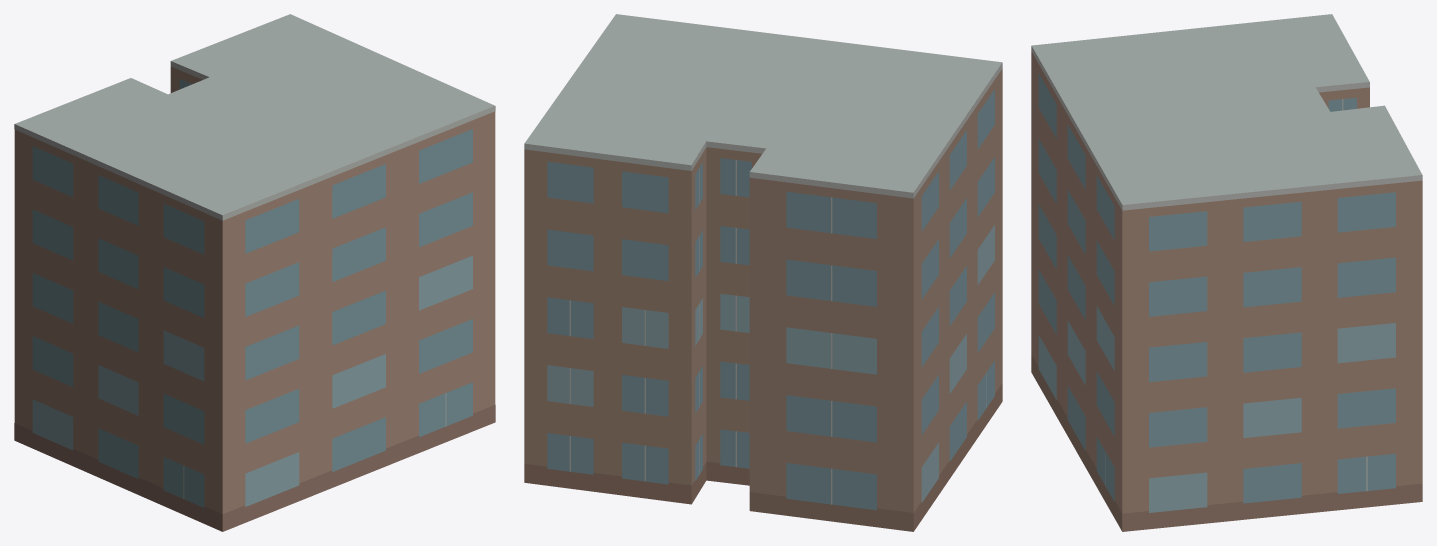
Rendered from survey-upis-32812532.glb.
3 renders of one model, left to right at view 1: azimuth 30°, elevation 25°; view 2: azimuth 150°, elevation 25°; view 3: azimuth 270°, elevation 25°, orthographic. The views are drawn at different scales.
Visible parts, largest first — view 1: survey-upis-32812532.tmp; view 2: survey-upis-32812532.tmp; view 3: survey-upis-32812532.tmp.
Part boxes in pixels (box(x1,y1,x2,y2)): survey-upis-32812532.tmp: box(14, 14, 495, 531); survey-upis-32812532.tmp: box(524, 14, 1002, 531); survey-upis-32812532.tmp: box(1031, 14, 1422, 531).
Bounding box in the file's own units: 18.07 × 14.4 × 15.63.
